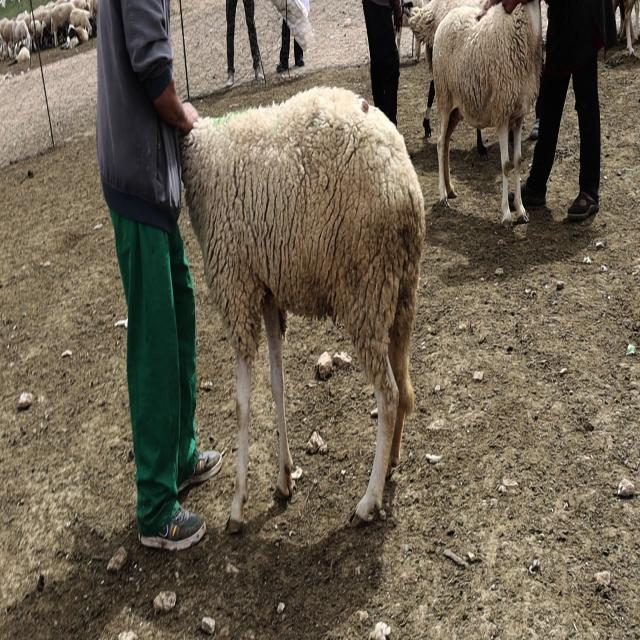Score_1: (180, 87, 426, 533)
